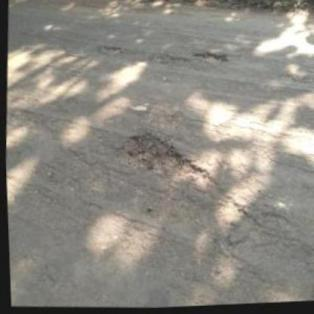Hueco: (111, 130, 214, 190), (190, 51, 230, 68), (94, 45, 126, 58)
